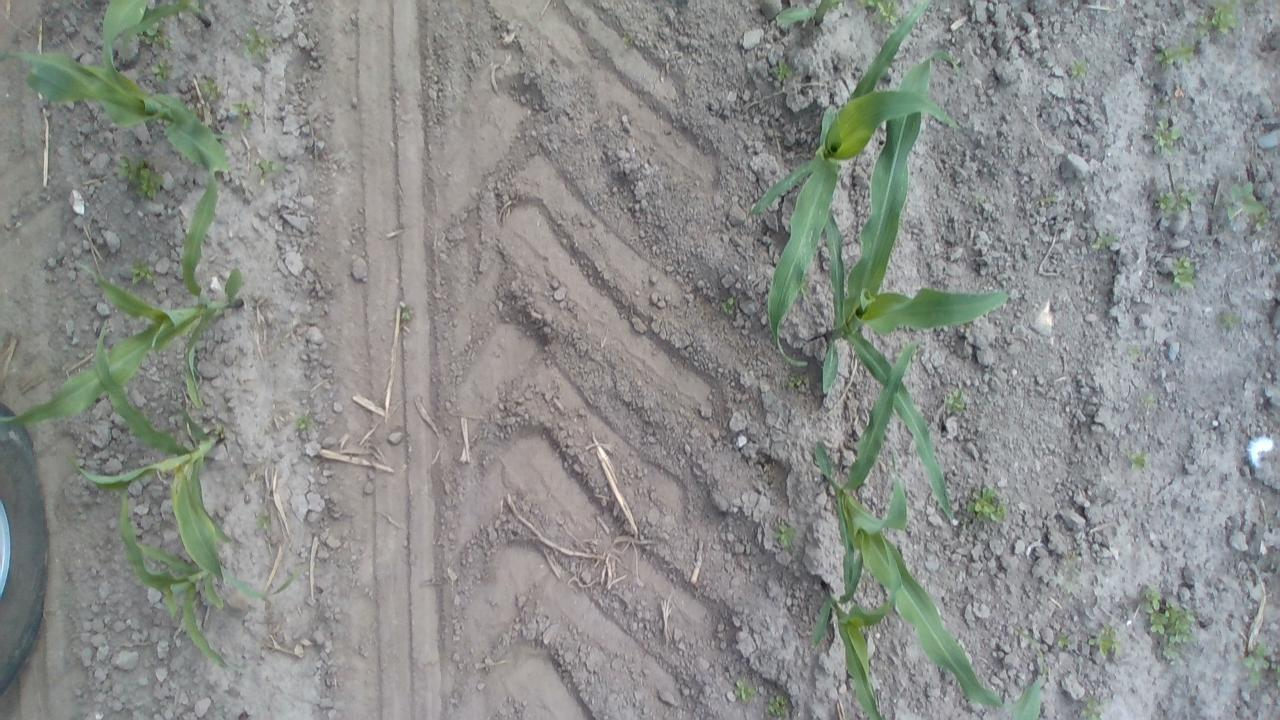Maize: (822, 50, 1012, 525), (815, 338, 1047, 720), (0, 125, 242, 427), (62, 318, 304, 598), (747, 0, 930, 367), (0, 0, 234, 176), (115, 484, 246, 672), (812, 581, 891, 720), (120, 0, 213, 61), (773, 0, 841, 26)
Weeds: (1144, 585, 1198, 660), (116, 154, 165, 200), (1224, 181, 1268, 230), (1198, 0, 1240, 36), (966, 487, 1006, 523), (136, 17, 173, 51), (1241, 642, 1269, 686), (1089, 624, 1123, 659), (1154, 40, 1194, 69), (1157, 186, 1195, 216), (240, 26, 270, 62), (1152, 120, 1182, 154), (860, 0, 900, 25), (1171, 255, 1196, 290), (230, 98, 256, 131), (771, 522, 797, 548), (199, 75, 223, 102), (764, 694, 792, 717), (1079, 695, 1104, 720), (130, 260, 156, 284), (150, 57, 173, 84), (1062, 548, 1080, 578), (944, 387, 964, 414), (733, 679, 756, 701), (770, 60, 794, 80), (896, 342, 916, 366), (254, 158, 282, 175), (294, 414, 315, 431), (1129, 450, 1146, 470), (1091, 235, 1114, 249), (1070, 60, 1087, 78), (1220, 313, 1240, 328), (721, 296, 736, 315), (788, 375, 807, 389), (256, 514, 271, 530), (799, 274, 810, 295), (1058, 633, 1072, 649), (1143, 394, 1155, 407), (1039, 196, 1058, 204), (622, 34, 632, 48), (214, 424, 224, 437), (1130, 346, 1140, 359), (400, 310, 410, 320), (972, 195, 986, 202), (1276, 664, 1280, 688), (962, 520, 968, 530)
